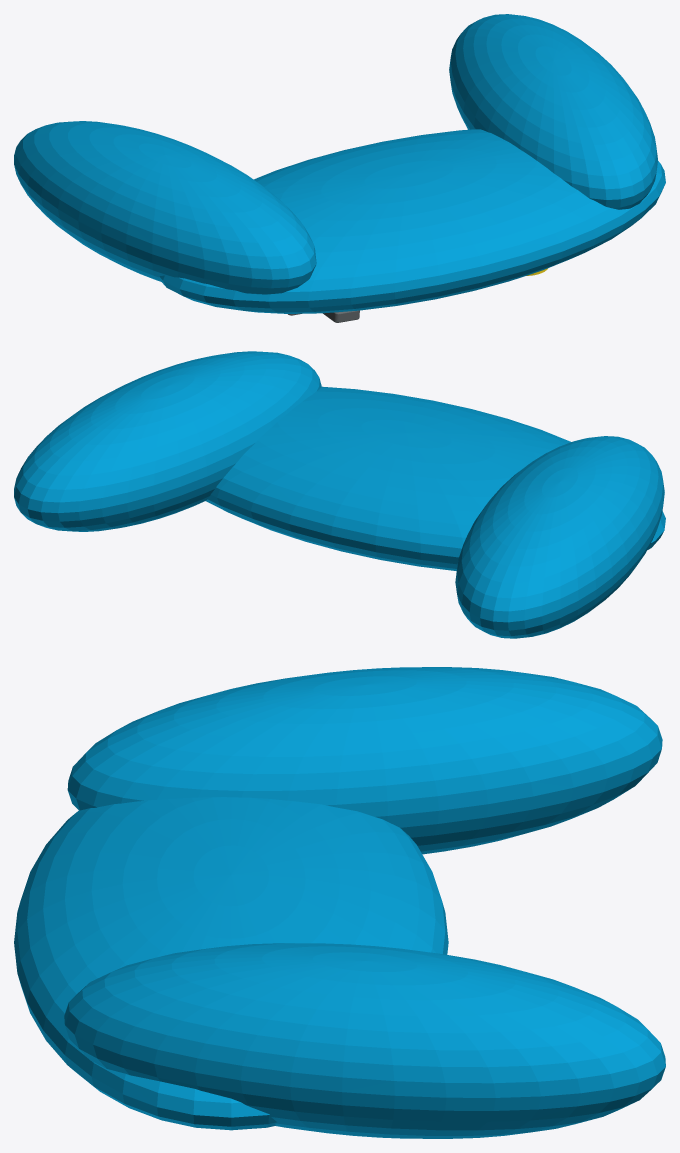
The model's file is game.obj.
3 renders of one model, top to bottom at view 1: azimuth 30°, elevation 25°; view 2: azimuth 150°, elevation 25°; view 3: azimuth 270°, elevation 25°, orthographic. The views are drawn at different scales.
Visible parts, largest first — view 1: group_0_40919; view 2: group_0_40919; view 3: group_0_40919.
Boxes of the visible parts, x1,y1,x2,y2 form: group_0_40919: (14, 14, 665, 313); group_0_40919: (14, 351, 665, 638); group_0_40919: (14, 667, 665, 1138).
Bounding box in the file's own units: 67.93 × 15.61 × 48.
